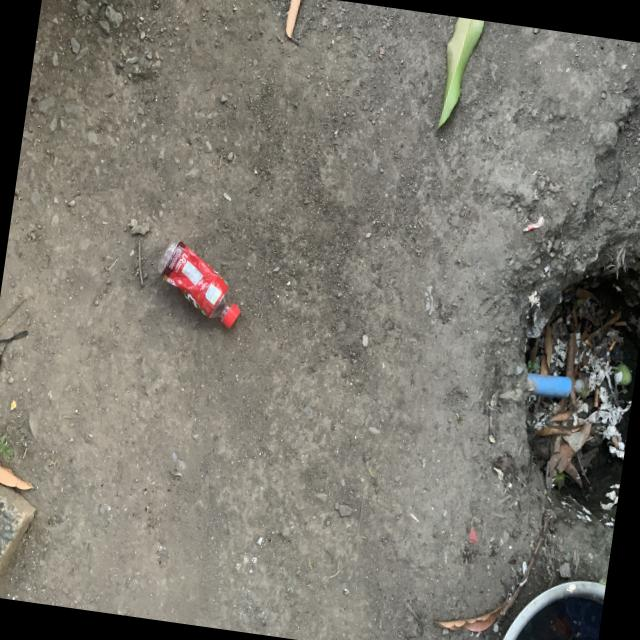Bottle: (158, 240, 240, 327)
